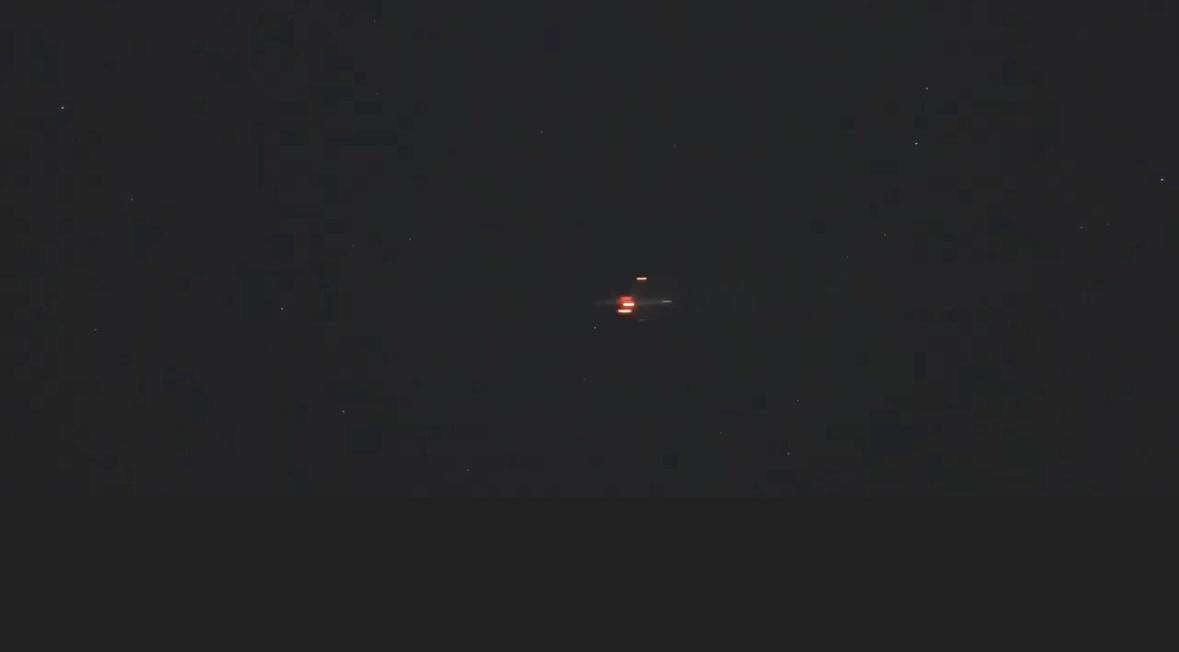Plane: (577, 257, 694, 334)
